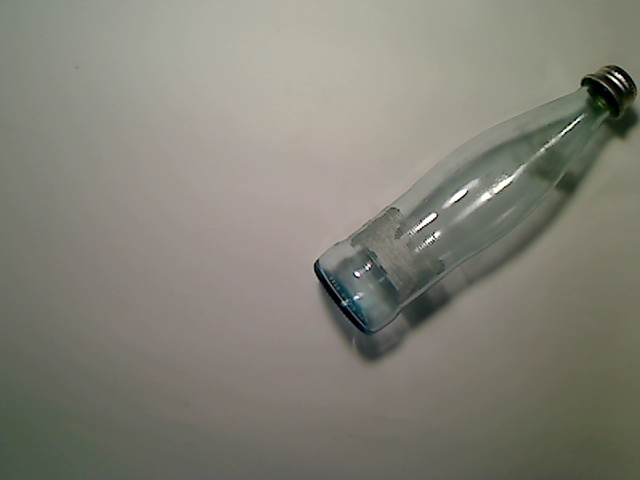bottle: (314, 66, 637, 335)
